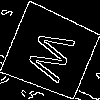W: (25, 26, 84, 88)
